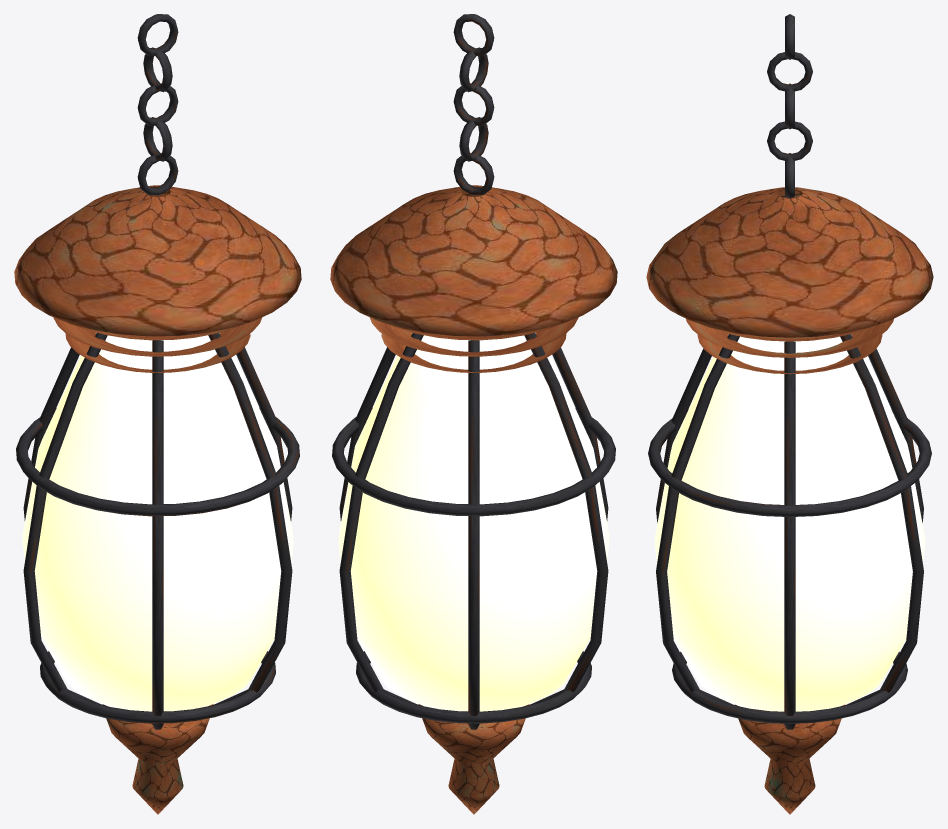
File: armory_lamp.glb
The picture shows the model from 3 angles, left to right: view 1: azimuth 30°, elevation 25°; view 2: azimuth 150°, elevation 25°; view 3: azimuth 270°, elevation 25°; orthographic projection.
Visible parts, largest first — view 1: lamp_optic_glass, lamp_cap, lamp_cage, lamp_finial, lamp_chain, lamp_louver_1, lamp_louver_2, lamp_louver_0; view 2: lamp_optic_glass, lamp_cap, lamp_cage, lamp_finial, lamp_chain, lamp_louver_1, lamp_louver_2, lamp_louver_0; view 3: lamp_optic_glass, lamp_cap, lamp_cage, lamp_finial, lamp_chain, lamp_louver_1, lamp_louver_2, lamp_louver_0.
Part boxes in pixels (<box>): lamp_optic_glass: <box>22,333,293,711</box>; lamp_cap: <box>14,185,301,336</box>; lamp_cage: <box>16,333,299,729</box>; lamp_finial: <box>102,704,213,814</box>; lamp_chain: <box>137,14,178,195</box>; lamp_louver_1: <box>53,317,262,356</box>; lamp_louver_2: <box>65,332,250,372</box>; lamp_louver_0: <box>74,324,242,340</box>; lamp_optic_glass: <box>338,333,609,711</box>; lamp_cap: <box>330,185,617,336</box>; lamp_cage: <box>332,333,615,729</box>; lamp_finial: <box>418,704,529,814</box>; lamp_chain: <box>453,14,494,195</box>; lamp_louver_1: <box>369,317,578,356</box>; lamp_louver_2: <box>381,332,566,372</box>; lamp_louver_0: <box>389,324,557,340</box>; lamp_optic_glass: <box>654,334,925,711</box>; lamp_cap: <box>646,187,933,337</box>; lamp_cage: <box>648,334,931,729</box>; lamp_finial: <box>734,704,845,814</box>; lamp_chain: <box>767,14,812,198</box>; lamp_louver_1: <box>686,319,893,357</box>; lamp_louver_2: <box>697,333,882,374</box>; lamp_louver_0: <box>704,325,875,341</box>.
Size of the model in its own units: 0.1921 by 0.5525 by 0.18.
4 materials, 3 textured.
